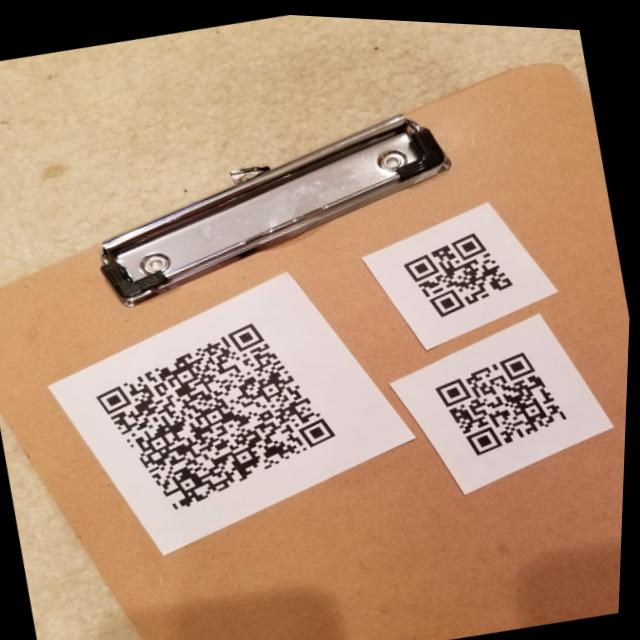QR_CODE: (70, 283, 366, 544), (414, 321, 597, 468), (379, 198, 531, 330)
